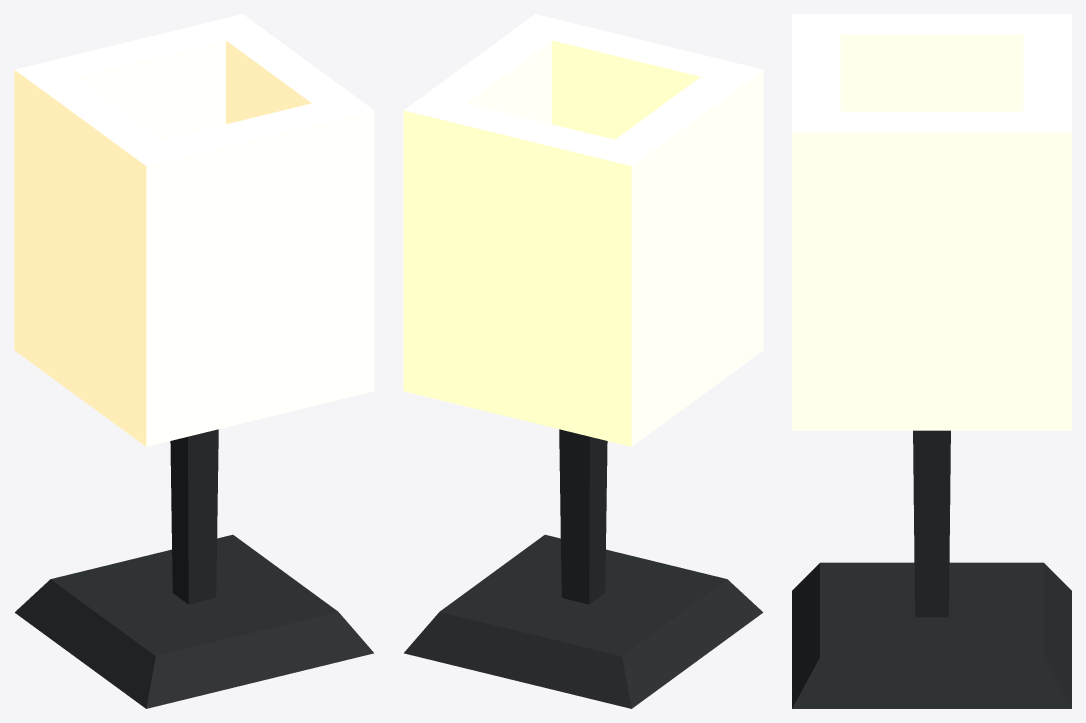
File: lamp-table-square.glb
The picture shows the model from 3 angles, left to right: view 1: azimuth 30°, elevation 25°; view 2: azimuth 150°, elevation 25°; view 3: azimuth 270°, elevation 25°; orthographic projection. The views are drawn at different scales.
Visible parts, largest first — view 1: lamp-table-square; view 2: lamp-table-square; view 3: lamp-table-square.
Part boxes in pixels (x1,y1,x2,y2): lamp-table-square: (14,14,374,708); lamp-table-square: (403,14,763,708); lamp-table-square: (792,14,1071,708).
Bounding box in the file's own units: 0.22 × 0.5 × 0.22.
